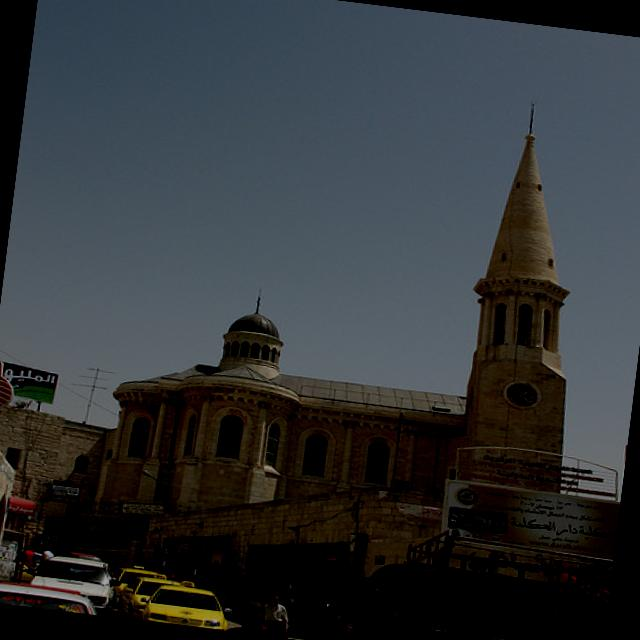Vehicle: (377, 519, 614, 640), (137, 575, 232, 631), (28, 552, 116, 611), (0, 575, 121, 617), (116, 573, 184, 625), (107, 562, 169, 614)
